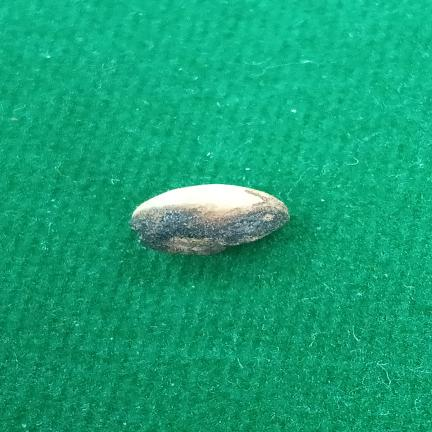partial-black: (130, 184, 290, 255)
